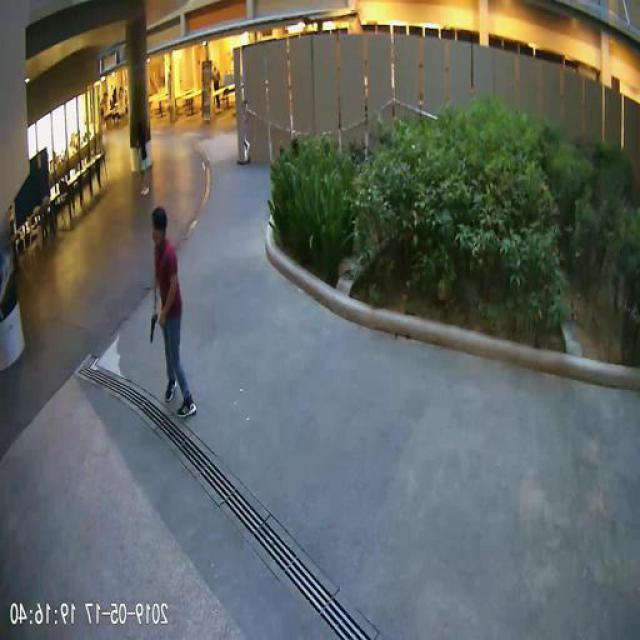Gun: (151, 312, 160, 340)
